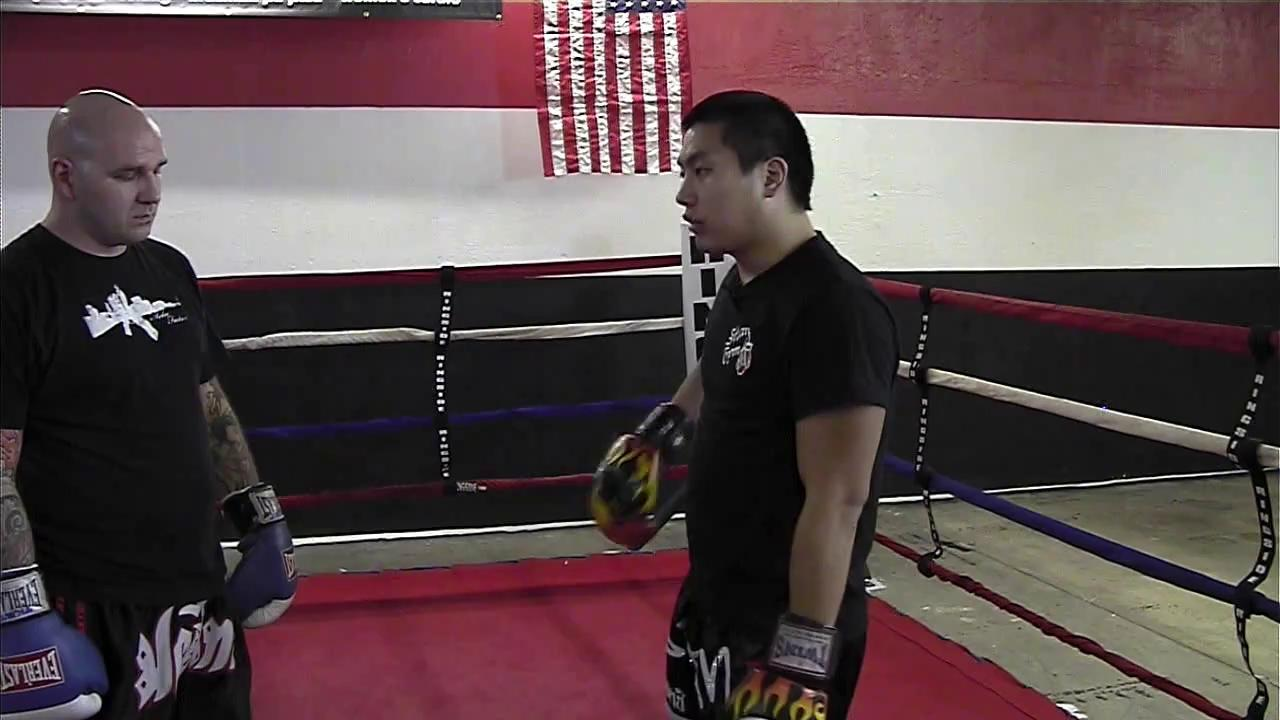victim: (585, 89, 904, 720), (64, 84, 316, 719)
